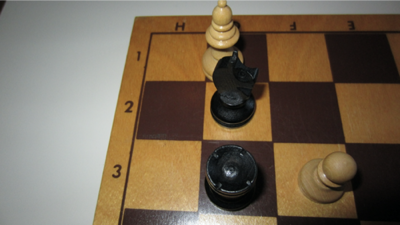black-knight: (210, 50, 261, 132)
black-rook: (203, 144, 259, 213)
white-bishop: (202, 1, 245, 83)
white-pawn: (296, 151, 359, 205)
